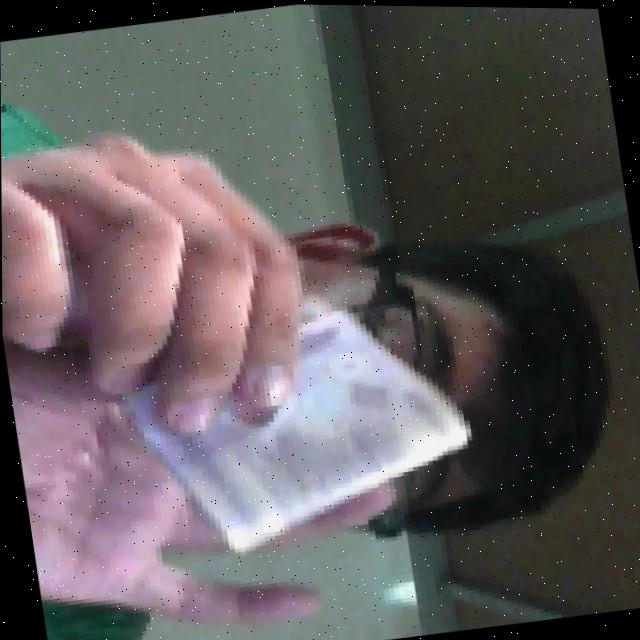50 000 VND: (104, 275, 489, 572)
